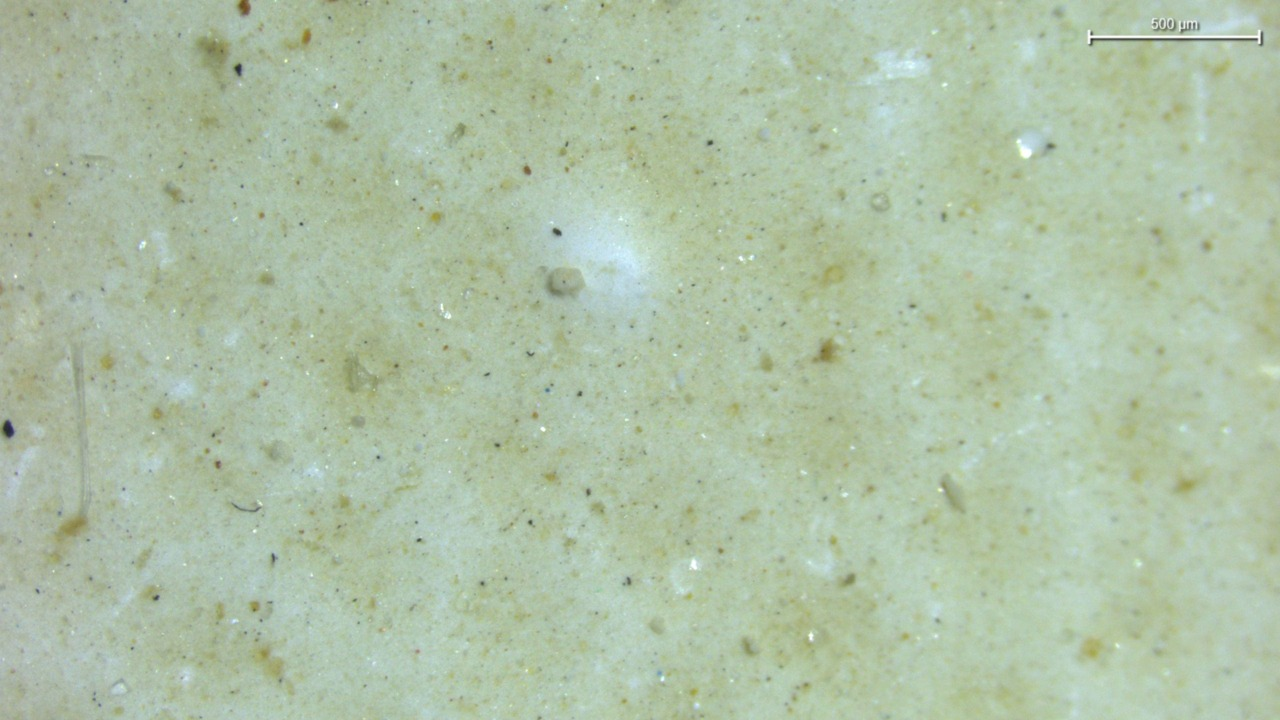microplastic_fragment: (344, 353, 378, 392), (547, 267, 585, 296)
